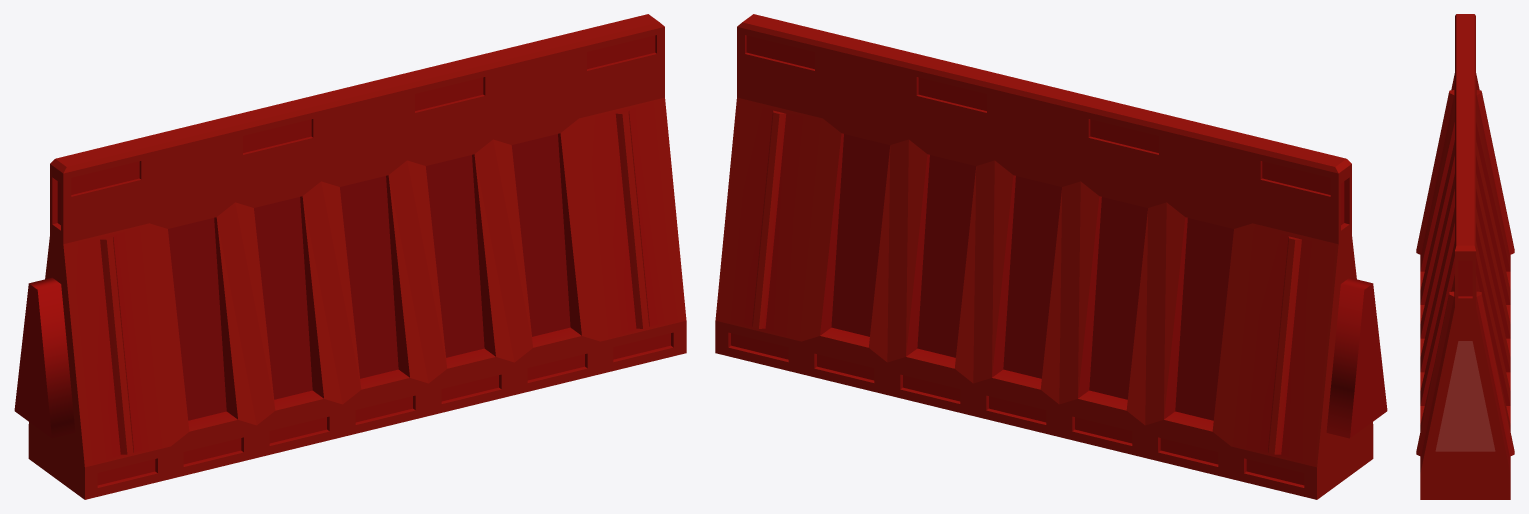
File: PlasticBarrier_Single.fbx
3 renders of one model, left to right at view 1: azimuth 30°, elevation 25°; view 2: azimuth 150°, elevation 25°; view 3: azimuth 270°, elevation 25°, orthographic. The views are drawn at different scales.
Parts seen in each view (by area): view 1: PlasticBarrier_Single; view 2: PlasticBarrier_Single; view 3: PlasticBarrier_Single.
Boxes of the visible parts, <box> form: PlasticBarrier_Single: <box>14,14,686,499</box>; PlasticBarrier_Single: <box>715,14,1387,499</box>; PlasticBarrier_Single: <box>1416,14,1514,499</box>.
Bounding box in the file's own units: 284 × 137 × 48.51.
